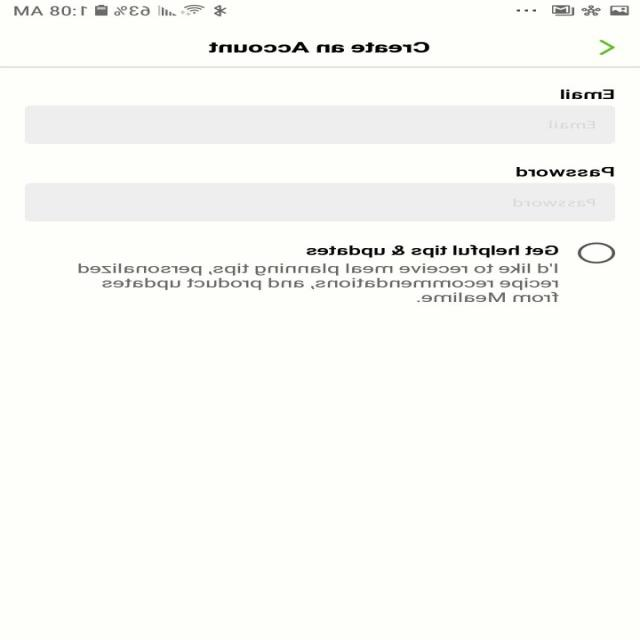EditText: (25, 182, 615, 222), (25, 105, 615, 144)
Icon: (598, 39, 615, 55)
Text: (78, 263, 559, 302), (306, 245, 560, 258), (208, 42, 430, 52), (516, 166, 614, 176), (514, 198, 594, 206), (561, 89, 615, 99), (550, 120, 596, 128)
